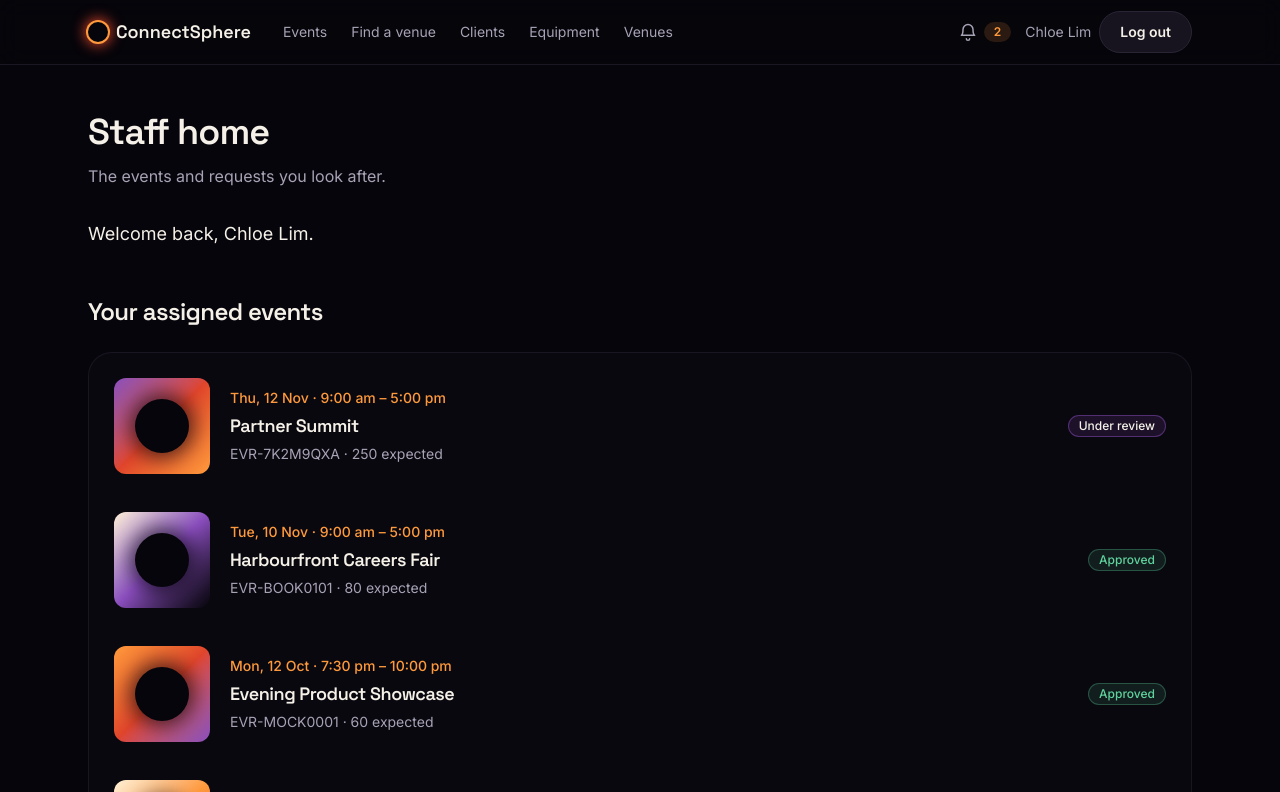
Test: SCRUM-6 a signed-in user’s home › logs a coordinator out to the front page, not back to their home
Click the button "Log out" at {"x": 1146, "y": 32}, box 1099,11 -> 1192,53
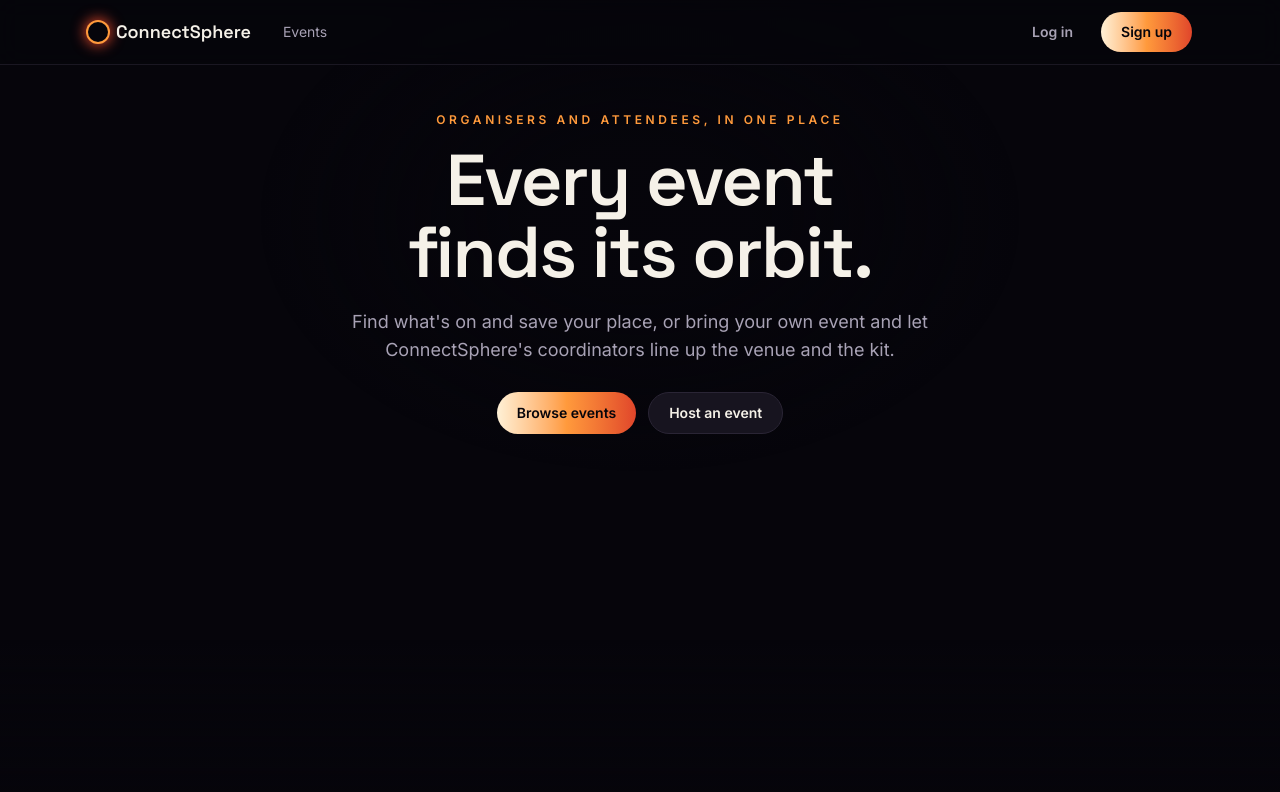
Now the link "Log in" is shown, box 1032,23 -> 1073,40
